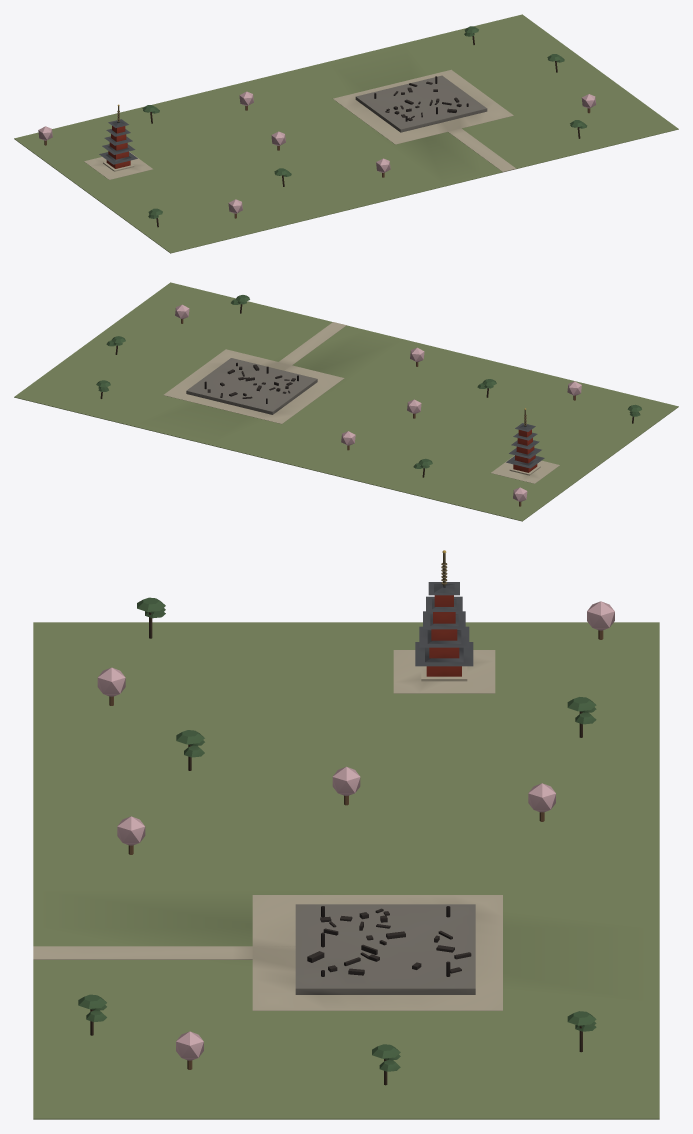
File: kaneiji-1872.glb
3 renders of one model, top to bottom at view 1: azimuth 30°, elevation 25°; view 2: azimuth 150°, elevation 25°; view 3: azimuth 270°, elevation 25°, orthographic. The views are drawn at different scales.
Parts seen in each view (by area): view 1: p0_ground, p1_ruins, p2_pagoda; view 2: p0_ground, p1_ruins, p2_pagoda; view 3: p0_ground, p1_ruins, p2_pagoda.
Part boxes in pixels (<box>): p0_ground: <box>14,14,678,253</box>; p1_ruins: <box>355,75,487,132</box>; p2_pagoda: <box>38,26,596,227</box>; p0_ground: <box>14,282,678,521</box>; p1_ruins: <box>186,358,317,414</box>; p2_pagoda: <box>96,295,641,506</box>; p0_ground: <box>33,622,659,1119</box>; p1_ruins: <box>295,904,475,994</box>; p2_pagoda: <box>78,550,614,1085</box>.
Bounding box in the file's own units: 300 × 34.58 × 160.
